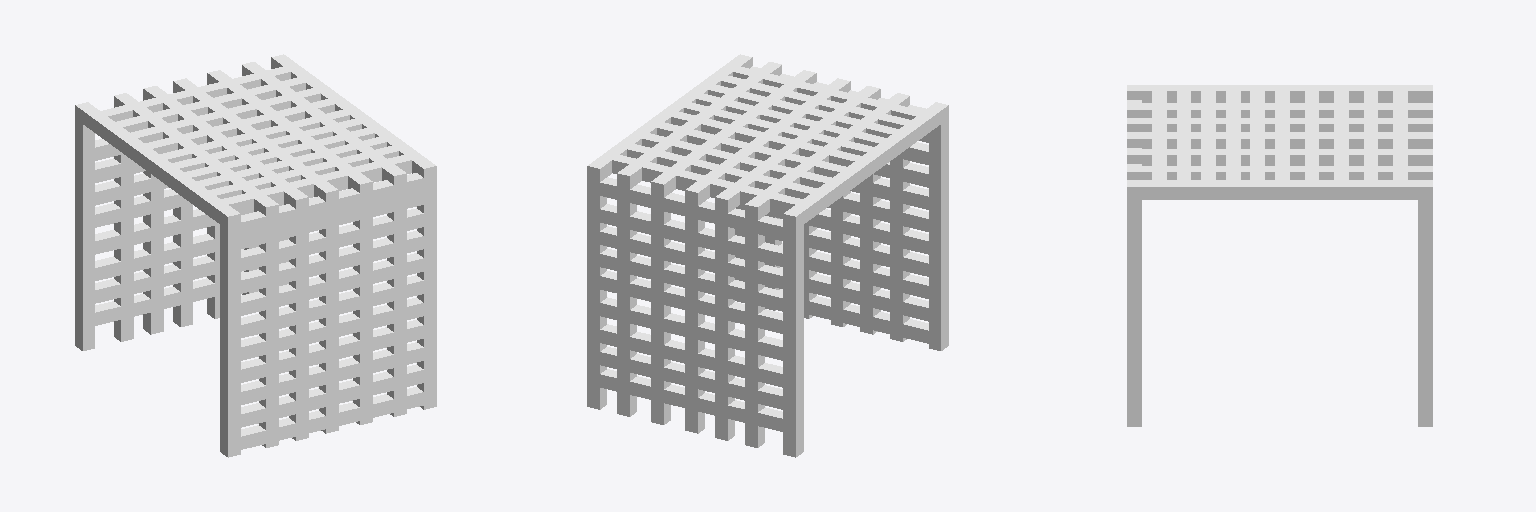
Rendered from Scale.obj.
3 views of the same model, side by side, from view 1: azimuth 30°, elevation 25°; view 2: azimuth 150°, elevation 25°; view 3: azimuth 270°, elevation 25° (orthographic).
Parts seen in each view (by area): view 1: object 1; view 2: object 1; view 3: object 1.
Part boxes in pixels (x1,y1,x2,y2): object 1: (75,54,436,457); object 1: (587,54,948,457); object 1: (1127,85,1432,426).
Bounding box in the file's own units: 4.9 × 5.4 × 6.2.